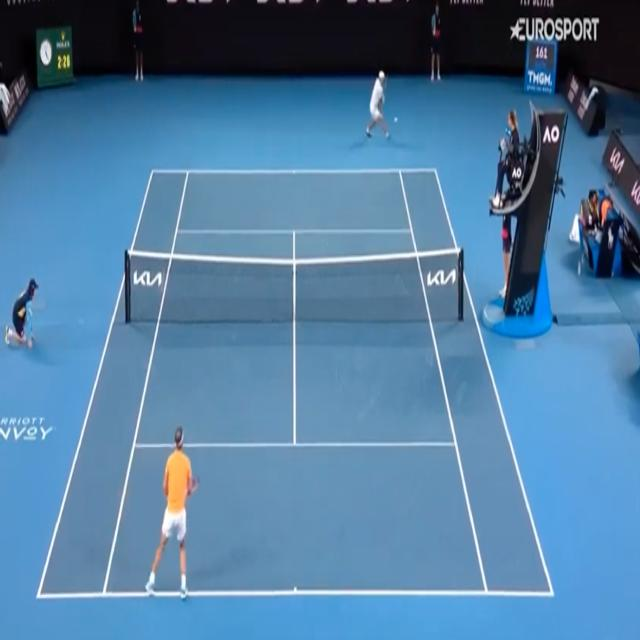ball: (394, 116, 398, 123)
